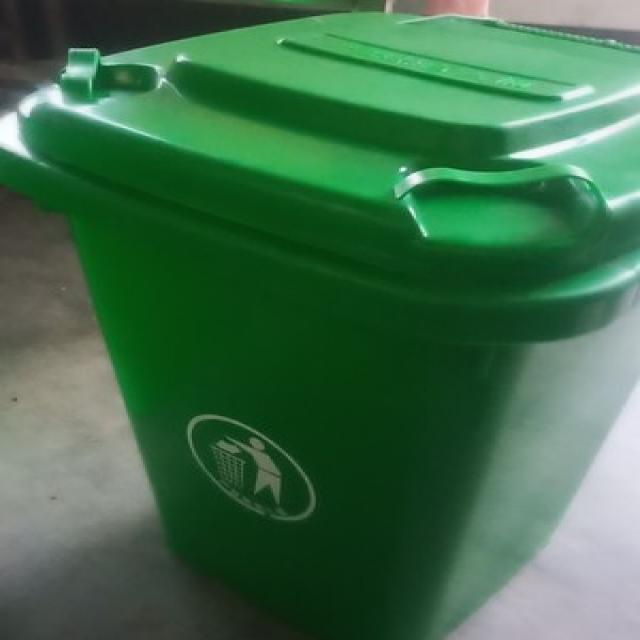ash bin: (0, 0, 638, 634)
